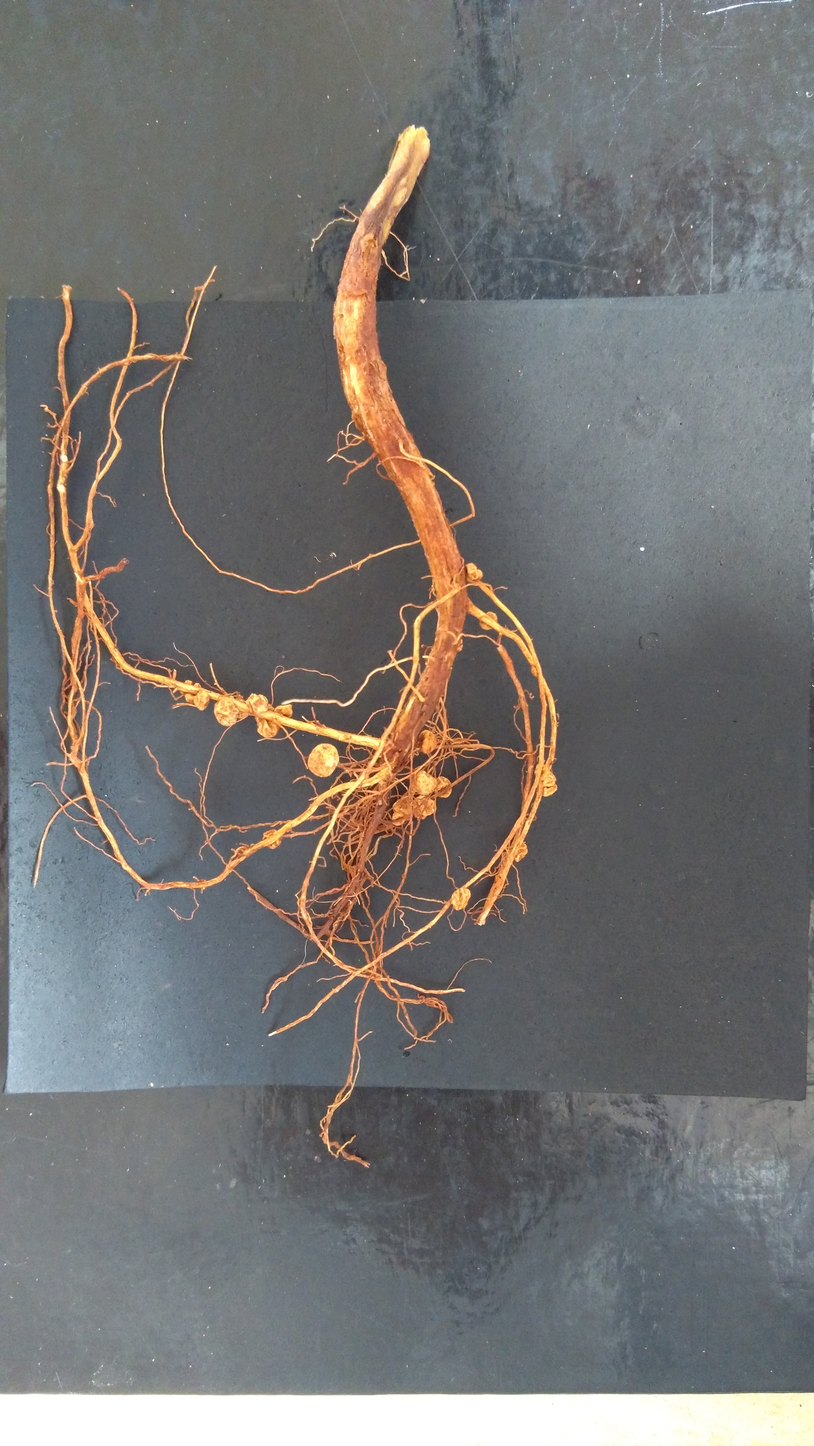nodule: (305, 741, 340, 779), (213, 695, 239, 729), (411, 794, 438, 821), (390, 794, 412, 827), (412, 769, 438, 796), (254, 715, 281, 740), (449, 886, 473, 911), (245, 691, 271, 714), (417, 728, 438, 755), (261, 828, 283, 851), (464, 560, 484, 583), (478, 610, 498, 633), (543, 770, 559, 798), (192, 689, 211, 712), (435, 775, 453, 799), (273, 702, 294, 719), (513, 840, 527, 862)
